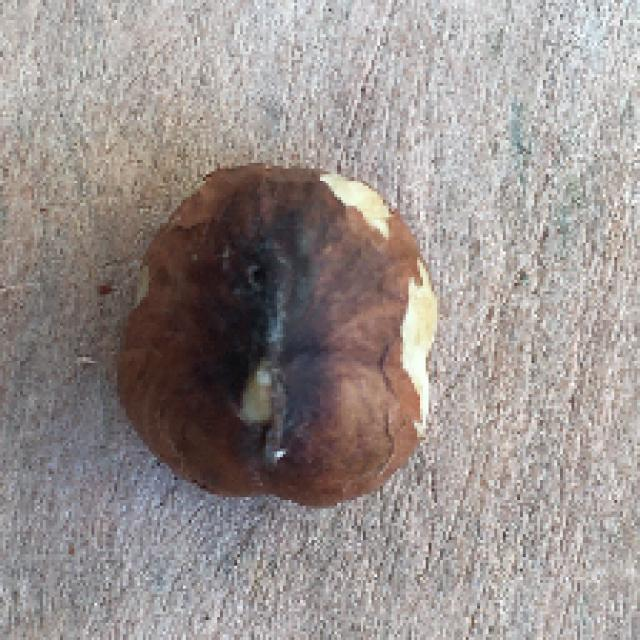hazelnut: (87, 159, 456, 510)
